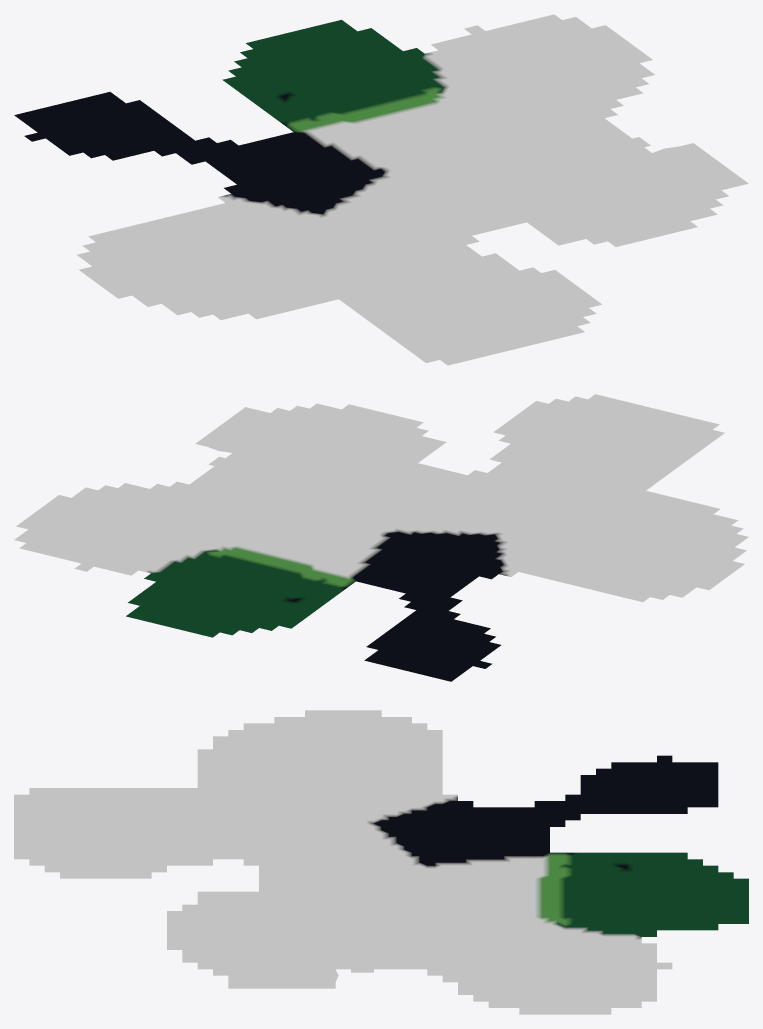
File: Water New 2.fbx
3 renders of one model, top to bottom at view 1: azimuth 30°, elevation 25°; view 2: azimuth 150°, elevation 25°; view 3: azimuth 270°, elevation 25°, orthographic. The views are drawn at different scales.
Parts seen in each view (by area): view 1: Water_New; view 2: Water_New; view 3: Water_New.
Boxes of the visible parts, <box> form: Water_New: <box>14,14,748,365</box>; Water_New: <box>14,394,748,681</box>; Water_New: <box>14,710,748,1014</box>.
Size of the model in its own units: 60002 by 0 by 61279.
